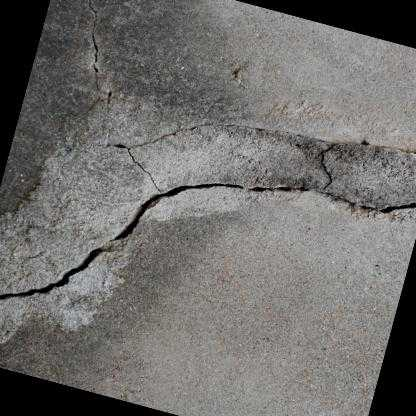crack: (0, 181, 406, 301), (103, 122, 416, 191), (86, 0, 112, 109)
